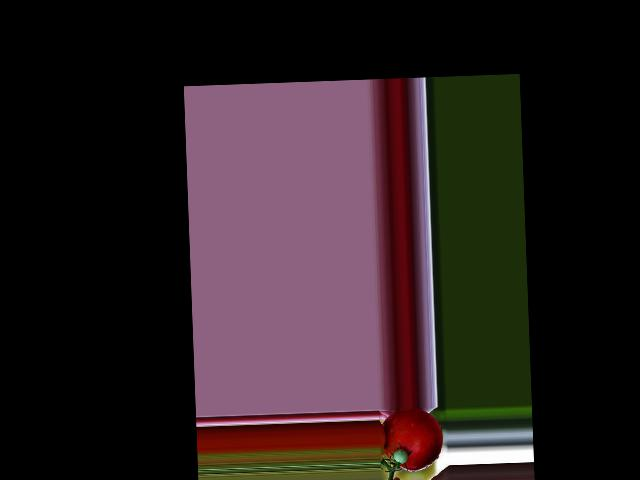tomato: (382, 406, 443, 472)
